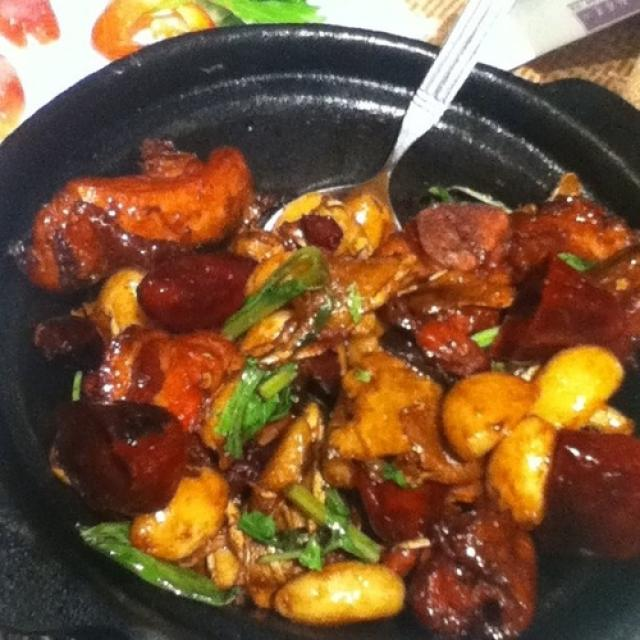鸡肉料理 含炸鸡: (18, 44, 609, 610)
